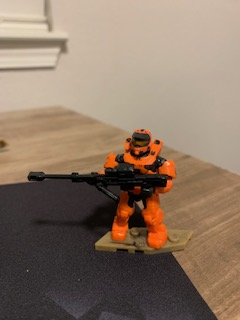spartan: (96, 125, 172, 253)
